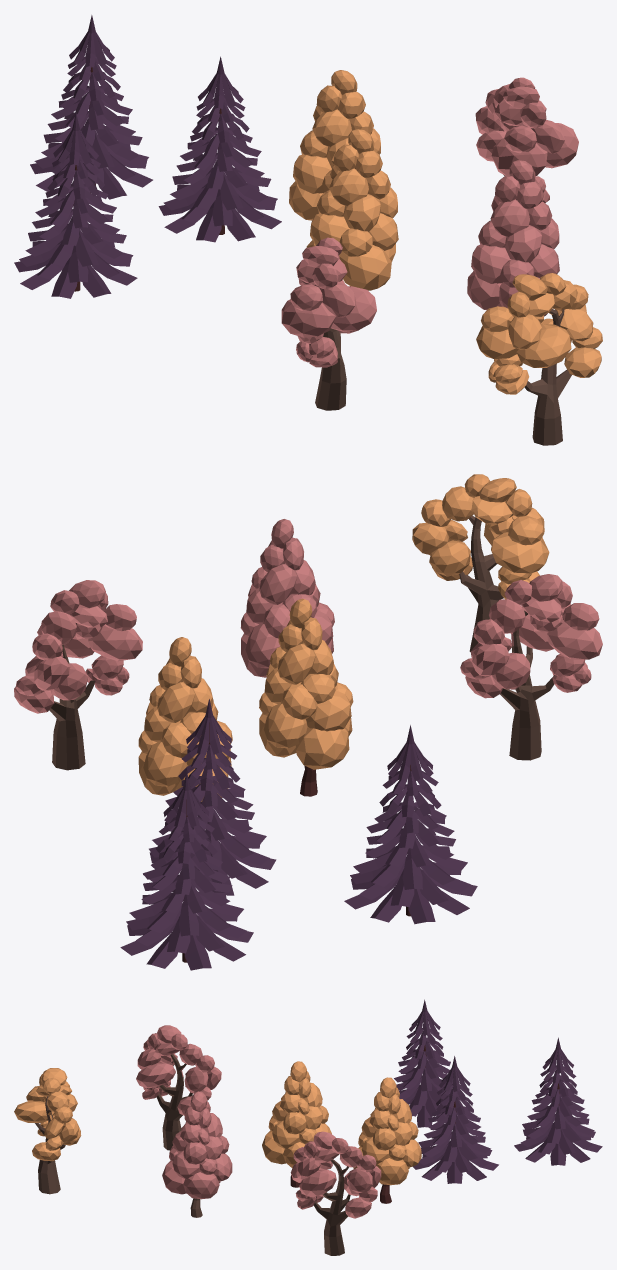
File: trees3.obj
3 views of the same model, one above another, from view 1: azimuth 30°, elevation 25°; view 2: azimuth 150°, elevation 25°; view 3: azimuth 270°, elevation 25° (orthographic). The views are drawn at different scales.
Visible parts, largest first — view 1: Fir_tree_Cylinder_005, Fir_tree_Cylinder_003, Oak_Cylinder_004, Poplar_Cylinder_006, Fir_tree_Cylinder_004, Poplar_Cylinder_007, Oak_Cylinder_009, Oak_Cylinder_008, Poplar_Cylinder_005, trunk1, trunk003; view 2: Fir_tree_Cylinder_004, Fir_tree_Cylinder_003, Oak_Cylinder_009, Poplar_Cylinder_006, Oak_Cylinder_008, Oak_Cylinder_004, Fir_tree_Cylinder_005, Poplar_Cylinder_005, Poplar_Cylinder_007, trunk003, trunk002, trunk1; view 3: Fir_tree_Cylinder_004, Fir_tree_Cylinder_005, Poplar_Cylinder_007, Oak_Cylinder_008, Poplar_Cylinder_005, Poplar_Cylinder_006, Oak_Cylinder_009, Fir_tree_Cylinder_003, Oak_Cylinder_004, trunk002, trunk003, trunk1.
Boxes of the visible parts, x1=… form: Fir_tree_Cylinder_005: x1=158, y1=56, x2=281, y2=242; Fir_tree_Cylinder_003: x1=14, y1=112, x2=137, y2=298; Oak_Cylinder_004: x1=476, y1=273, x2=602, y2=394; Poplar_Cylinder_006: x1=306, y1=129, x2=398, y2=290; Fir_tree_Cylinder_004: x1=30, y1=15, x2=152, y2=199; Poplar_Cylinder_007: x1=467, y1=160, x2=559, y2=316; Oak_Cylinder_009: x1=281, y1=237, x2=376, y2=367; Oak_Cylinder_008: x1=475, y1=77, x2=578, y2=203; Poplar_Cylinder_005: x1=289, y1=70, x2=380, y2=220; trunk1: x1=524, y1=309, x2=571, y2=445; trunk003: x1=315, y1=328, x2=346, y2=410; Fir_tree_Cylinder_004: x1=120, y1=771, x2=253, y2=970; Fir_tree_Cylinder_003: x1=344, y1=725, x2=477, y2=924; Oak_Cylinder_009: x1=460, y1=574, x2=602, y2=698; Poplar_Cylinder_006: x1=259, y1=598, x2=353, y2=769; Oak_Cylinder_008: x1=14, y1=580, x2=142, y2=713; Oak_Cylinder_004: x1=412, y1=474, x2=549, y2=599; Fir_tree_Cylinder_005: x1=143, y1=699, x2=276, y2=895; Poplar_Cylinder_005: x1=138, y1=637, x2=232, y2=801; Poplar_Cylinder_007: x1=240, y1=519, x2=334, y2=677; trunk003: x1=500, y1=610, x2=554, y2=760; trunk002: x1=49, y1=644, x2=94, y2=770; trunk1: x1=459, y1=515, x2=503, y2=651; Fir_tree_Cylinder_004: x1=514, y1=1037, x2=602, y2=1165; Fir_tree_Cylinder_005: x1=413, y1=1056, x2=498, y2=1183; Poplar_Cylinder_007: x1=162, y1=1091, x2=232, y2=1199; Oak_Cylinder_008: x1=290, y1=1131, x2=381, y2=1218; Poplar_Cylinder_005: x1=353, y1=1077, x2=421, y2=1185; Poplar_Cylinder_006: x1=262, y1=1061, x2=331, y2=1168; Oak_Cylinder_009: x1=136, y1=1025, x2=221, y2=1115; Fir_tree_Cylinder_003: x1=394, y1=999, x2=457, y2=1127; Oak_Cylinder_004: x1=14, y1=1068, x2=81, y2=1161; trunk002: x1=314, y1=1159, x2=350, y2=1255; trunk003: x1=156, y1=1054, x2=192, y2=1150; trunk1: x1=35, y1=1096, x2=65, y2=1194.
Bounding box in the file's own units: 16.11 × 5.82 × 24.87.
